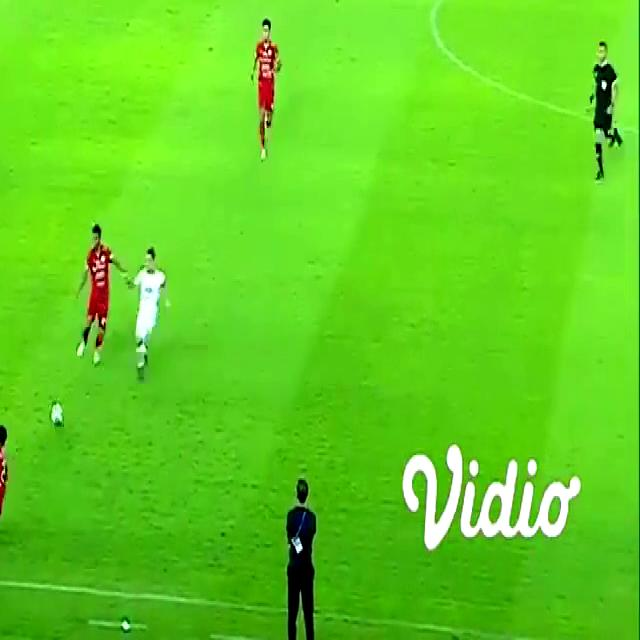ball: (47, 394, 67, 432)
referee: (577, 34, 640, 197)
soccer-player: (65, 212, 125, 370), (116, 242, 173, 380), (244, 8, 292, 160), (0, 421, 18, 567)
